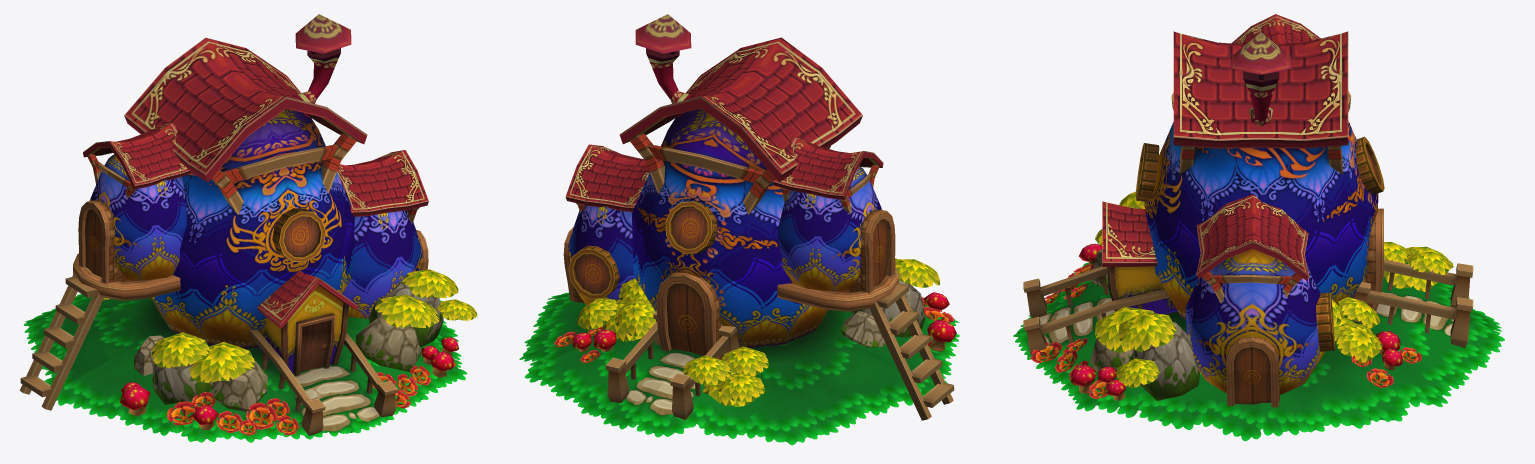
File: Egg_House_08.FBX
3 renders of one model, left to right at view 1: azimuth 30°, elevation 25°; view 2: azimuth 150°, elevation 25°; view 3: azimuth 270°, elevation 25°, orthographic. The views are drawn at different scales.
Visible parts, largest first — view 1: Egg_House_08, plant; view 2: Egg_House_08, plant; view 3: Egg_House_08, plant.
Boxes of the visible parts, x1,y1,x2,y2 form: Egg_House_08: (19, 14, 467, 442); plant: (151, 269, 477, 382); Egg_House_08: (519, 14, 959, 445); plant: (576, 258, 939, 402); Egg_House_08: (1013, 14, 1504, 441); plant: (1095, 191, 1453, 387).
Bounding box in the file's own units: 6.4 × 4.79 × 6.39.
